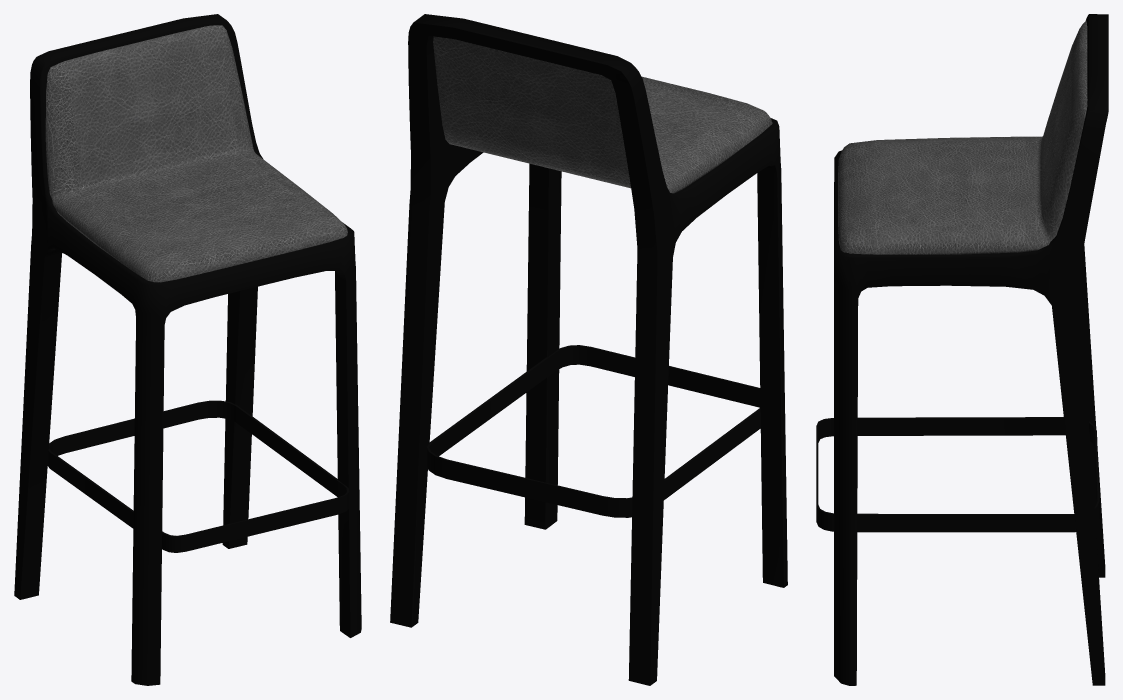
File: CGT_Barstool_018.fbx
The picture shows the model from 3 angles, left to right: view 1: azimuth 30°, elevation 25°; view 2: azimuth 150°, elevation 25°; view 3: azimuth 270°, elevation 25°; orthographic projection. The views are drawn at different scales.
Parts seen in each view (by area): view 1: CGT_Barstool_018; view 2: CGT_Barstool_018; view 3: CGT_Barstool_018.
Part boxes in pixels (x1,y1,x2,y2): CGT_Barstool_018: [14, 14, 361, 685]; CGT_Barstool_018: [390, 14, 787, 685]; CGT_Barstool_018: [816, 14, 1108, 685].
Bounding box in the file's own units: 44.18 × 46.28 × 99.59.
Materials: 3 (1 with a texture image).
